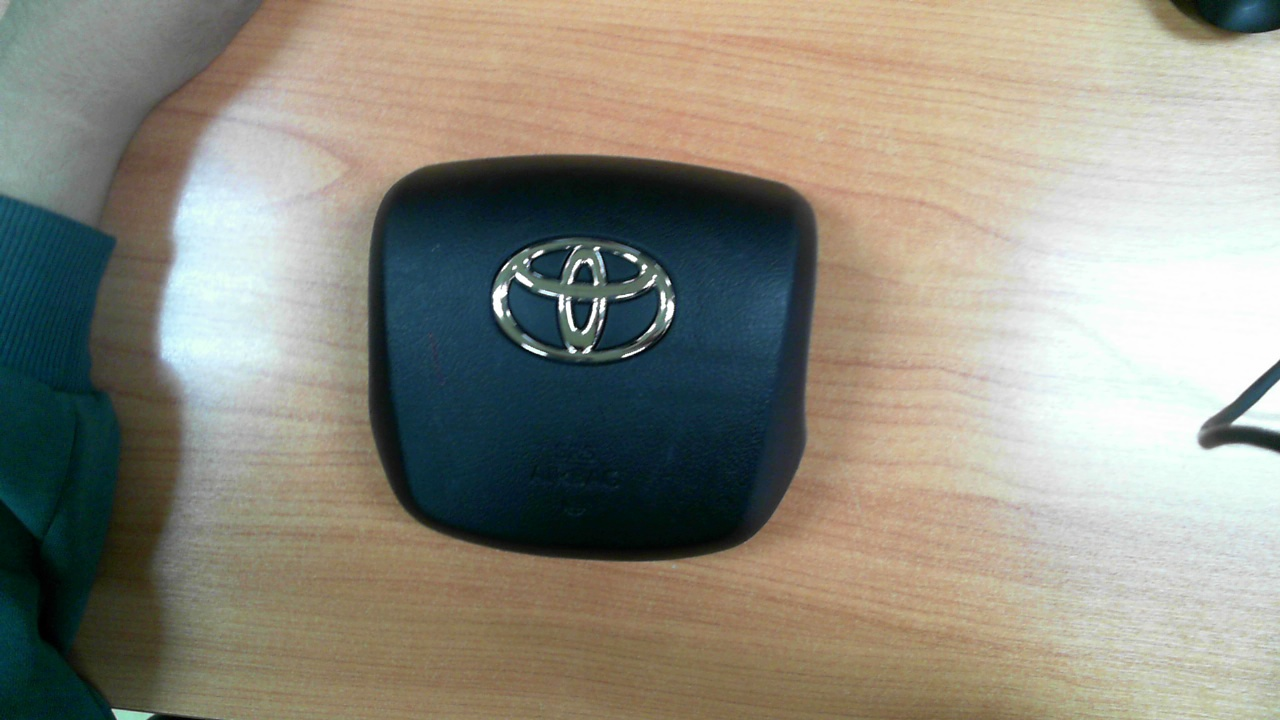Airbag: (366, 153, 819, 563)
Toyota: (491, 236, 676, 363)
